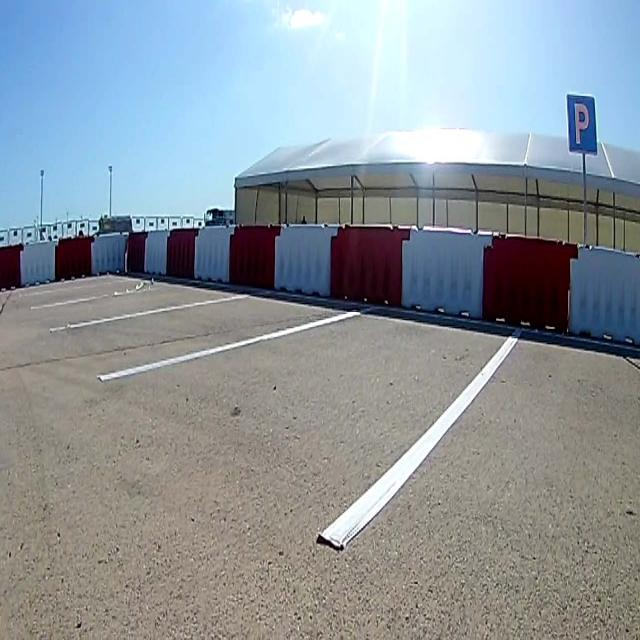park: (566, 93, 598, 155)
